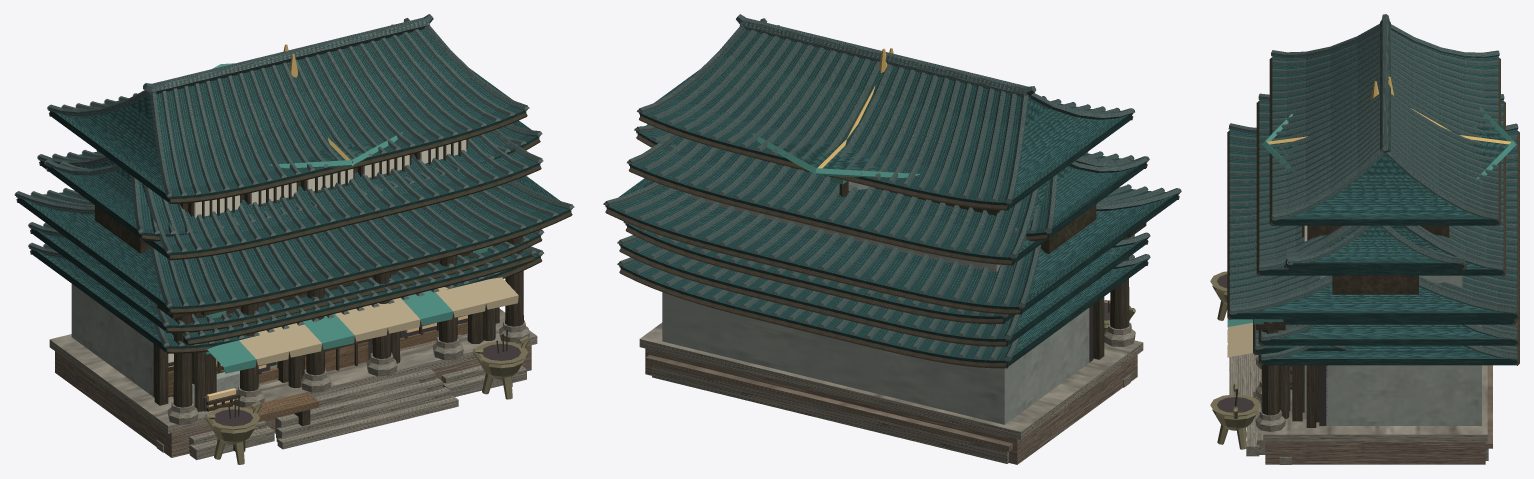
File: regional_tao.glb
3 renders of one model, left to right at view 1: azimuth 30°, elevation 25°; view 2: azimuth 150°, elevation 25°; view 3: azimuth 270°, elevation 25°, orthographic. The views are drawn at different scales.
Visible parts, largest first — view 1: hall, inn, home, shop, gate, wing, cottage; view 2: hall, inn, wing, home, cottage, gate; view 3: hall, inn, gate, home, wing, cottage, shop.
Boxes of the visible parts, <box> form: hall: <box>14,14,574,464</box>; inn: <box>37,129,543,411</box>; home: <box>28,222,544,411</box>; shop: <box>147,277,518,451</box>; gate: <box>44,54,542,452</box>; wing: <box>172,44,526,459</box>; cottage: <box>28,242,544,374</box>; hall: <box>603,14,1181,464</box>; inn: <box>627,133,1149,272</box>; wing: <box>623,48,1015,463</box>; home: <box>617,232,1150,346</box>; cottage: <box>617,254,1150,368</box>; gate: <box>634,48,1148,387</box>; hall: <box>1210,14,1519,464</box>; inn: <box>1253,93,1505,419</box>; gate: <box>1279,81,1466,464</box>; home: <box>1258,318,1519,421</box>; wing: <box>1246,76,1516,460</box>; cottage: <box>1258,344,1519,412</box>; shop: <box>1227,318,1313,357</box>.
Bounding box in the file's own units: 2.26 × 1.71 × 1.57.
Materials: 1 (1 with a texture image).
